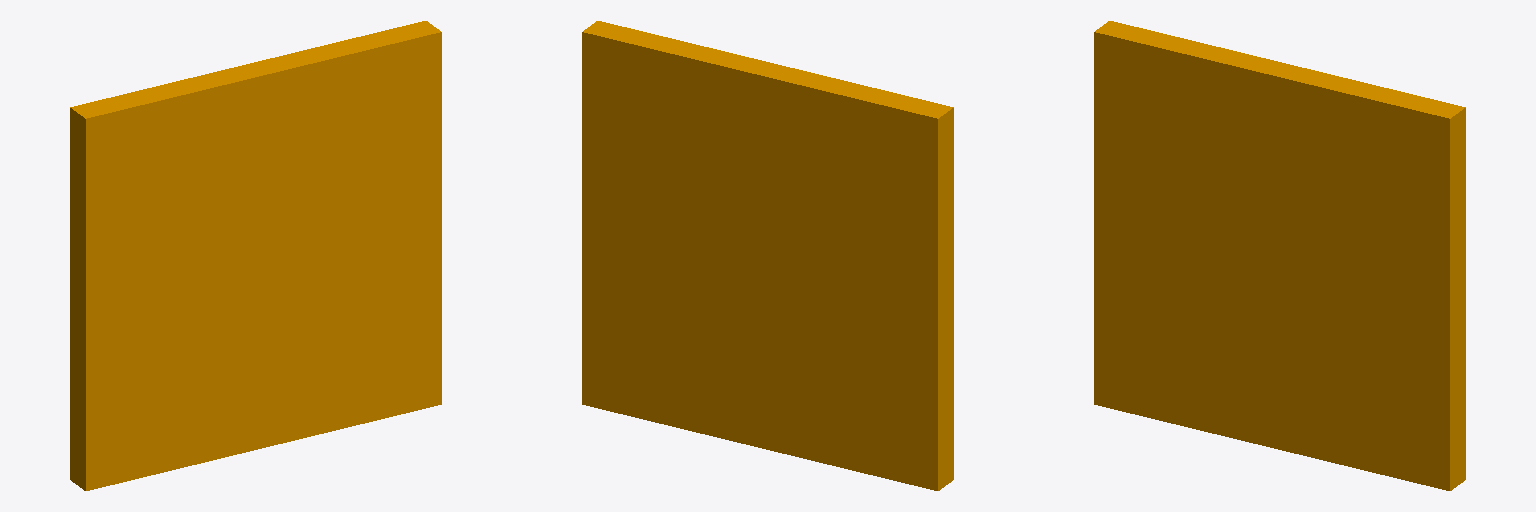
The robot description file, URDF, robot "DockingStation":
<?xml version="1.0"?>
<robot name="DockingStation">
    <link name="base_link">
        <visual>
            <geometry>
                <mesh filename="dsback.stl" scale="1 1 1"/>
            </geometry>
            <material name="blue"/>
        </visual>
        <collision>
            <geometry>
                <mesh filename="dsback.stl" scale="1 1 1"/>
            </geometry>
        </collision>
    </link>
</robot>

--- Facts derived from the render (not from the file) ---
Views: 3 orthographic renders of the robot side by side, from view 1: azimuth 30°, elevation 25°; view 2: azimuth 150°, elevation 25°; view 3: azimuth 330°, elevation 25°.
Model DockingStation with 1 links and 0 joints (none), rooted at base_link, posed every joint at zero.
Links seen in each view (by area): view 1: base_link; view 2: base_link; view 3: base_link.
Link boxes in pixels (<box>): base_link: <box>70,21,441,490</box>; base_link: <box>582,21,953,490</box>; base_link: <box>1094,21,1465,490</box>.
Size in the robot's own frame: 0.5 by 0.0381 by 0.5 metres.
Meshes: 1 distinct files referenced, 1 mesh visuals loaded (1 binary STL).